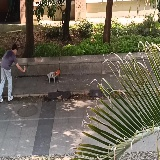fire: (53, 69, 60, 76)
